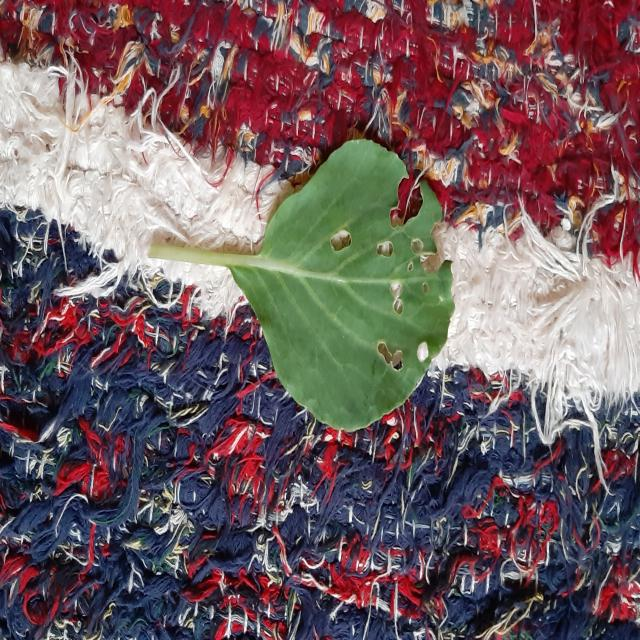Kohlrabi: (150, 140, 454, 431)
